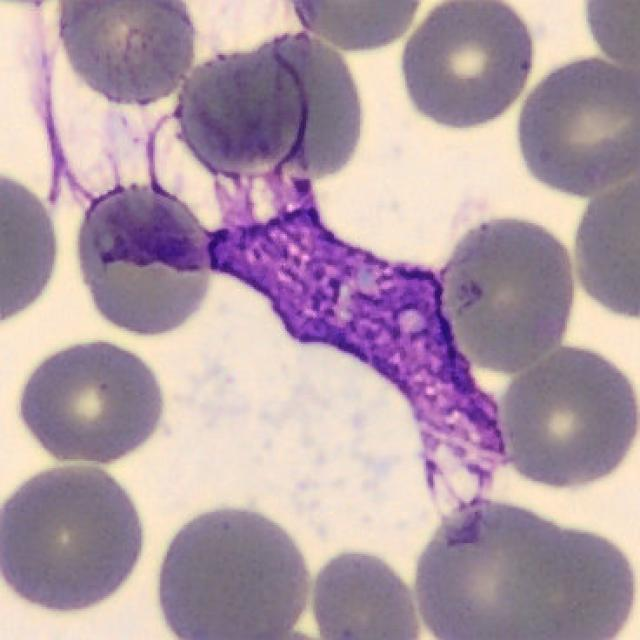Restos celulares: (101, 179, 506, 543)
